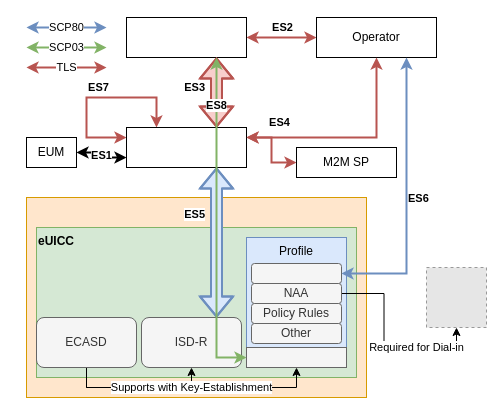
The diagram is 504 pixels wide and 415 high, and some of its shapes have lost their labels. Grey dashed boxes stand in for pictures. Each missing label, with the box of its shape:
Device: (26, 196, 366, 398)
ISD-P: (246, 346, 346, 368)
MNO-SD: (250, 262, 342, 284)
SM-DP: (126, 16, 246, 58)
SM-SR: (126, 126, 246, 168)
